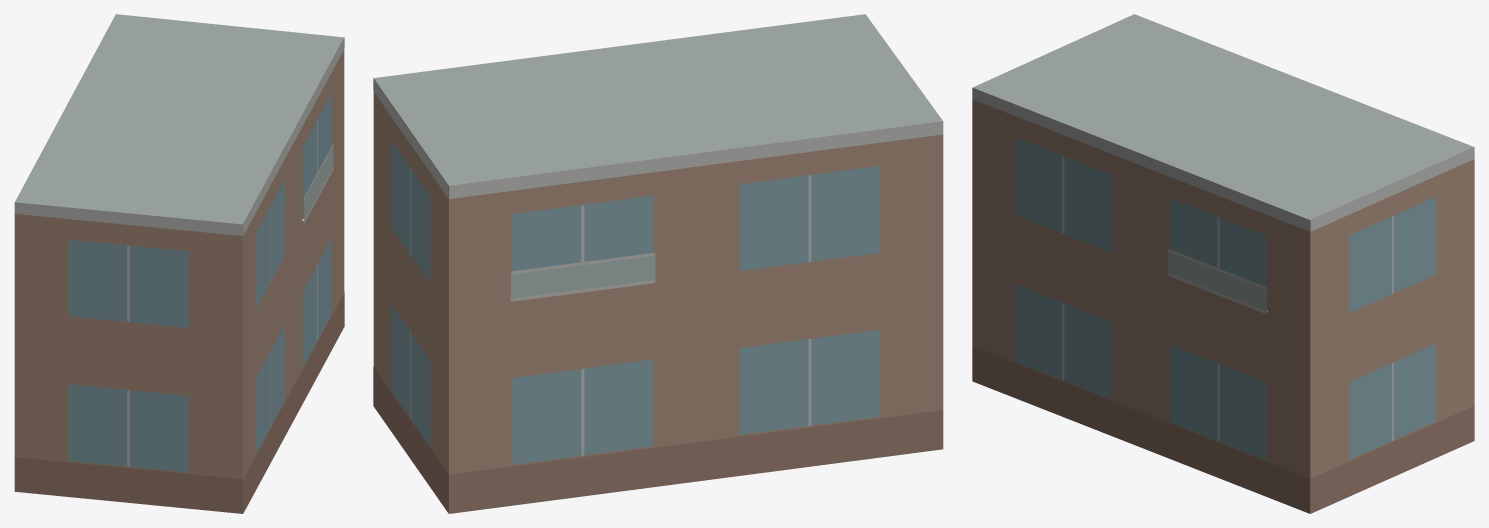
The model's file is survey-upis-32818182.glb.
3 renders of one model, left to right at view 1: azimuth 30°, elevation 25°; view 2: azimuth 150°, elevation 25°; view 3: azimuth 270°, elevation 25°, orthographic. The views are drawn at different scales.
Visible parts, largest first — view 1: survey-upis-32818182.tmp; view 2: survey-upis-32818182.tmp; view 3: survey-upis-32818182.tmp.
Part boxes in pixels (x1,y1,x2,y2): survey-upis-32818182.tmp: (14,14,344,513); survey-upis-32818182.tmp: (373,14,943,513); survey-upis-32818182.tmp: (972,14,1474,513).
Size of the model in its own units: 9.19 by 6.1 by 9.46.
